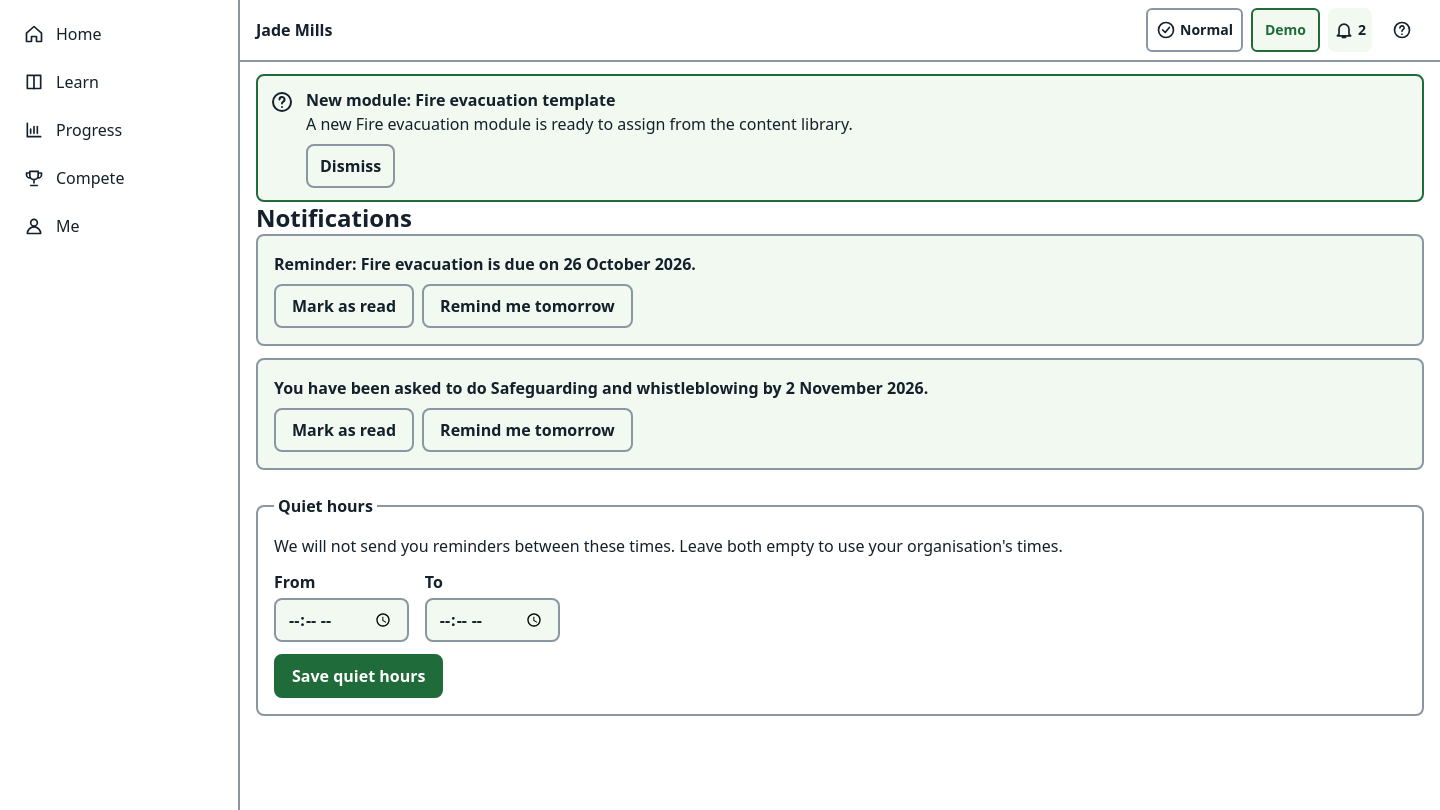
Scenario: S13 Notifications › snoozes an item with Remind me tomorrow: it disappears and is stored until 08:00 London tomorrow
This screenshot has width=1440, height=810.
Click the 1st button "Remind me tomorrow".
click(527, 306)  # box [422, 284, 633, 328]
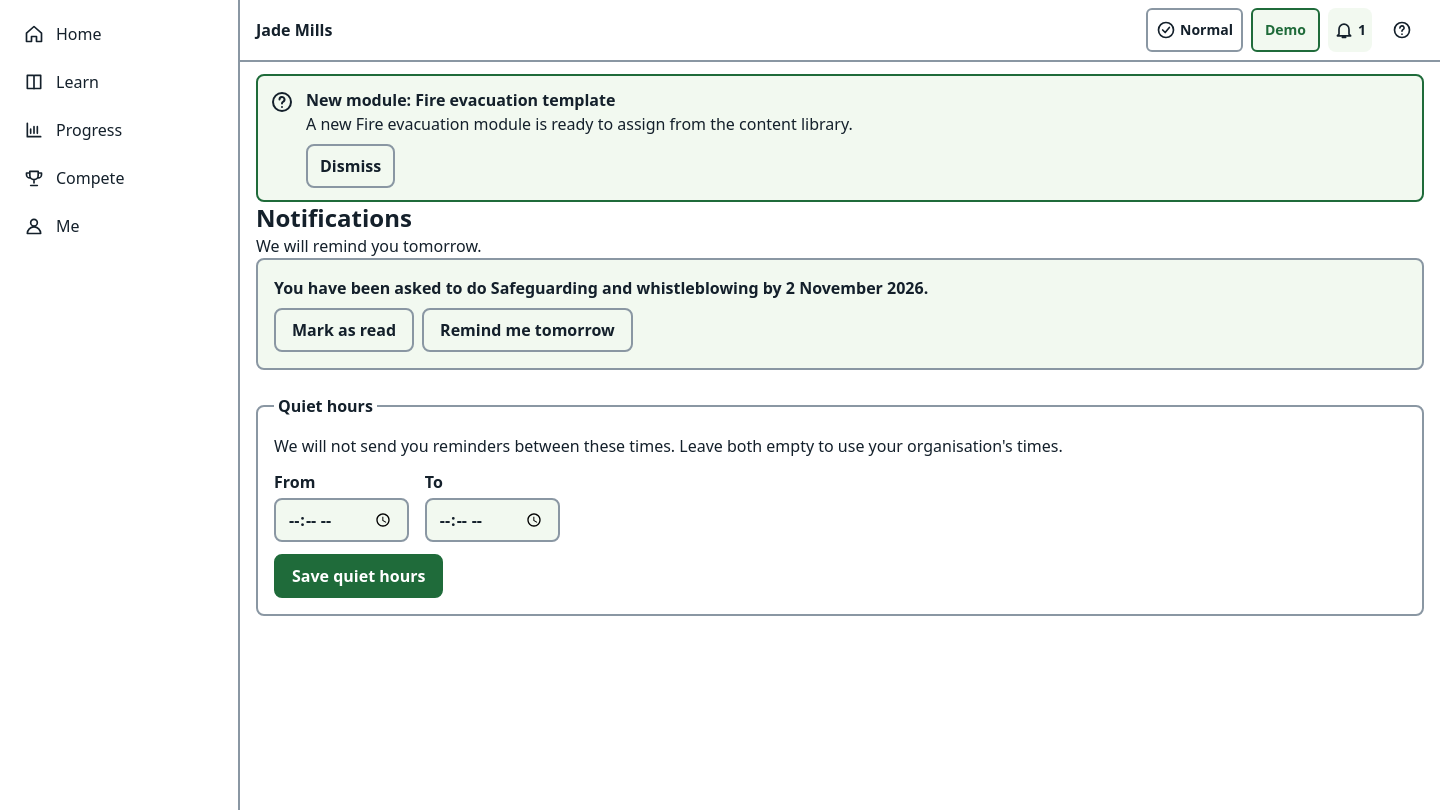
Expected: the message reads "We will remind you tomorrow.", [256, 235, 482, 257]
